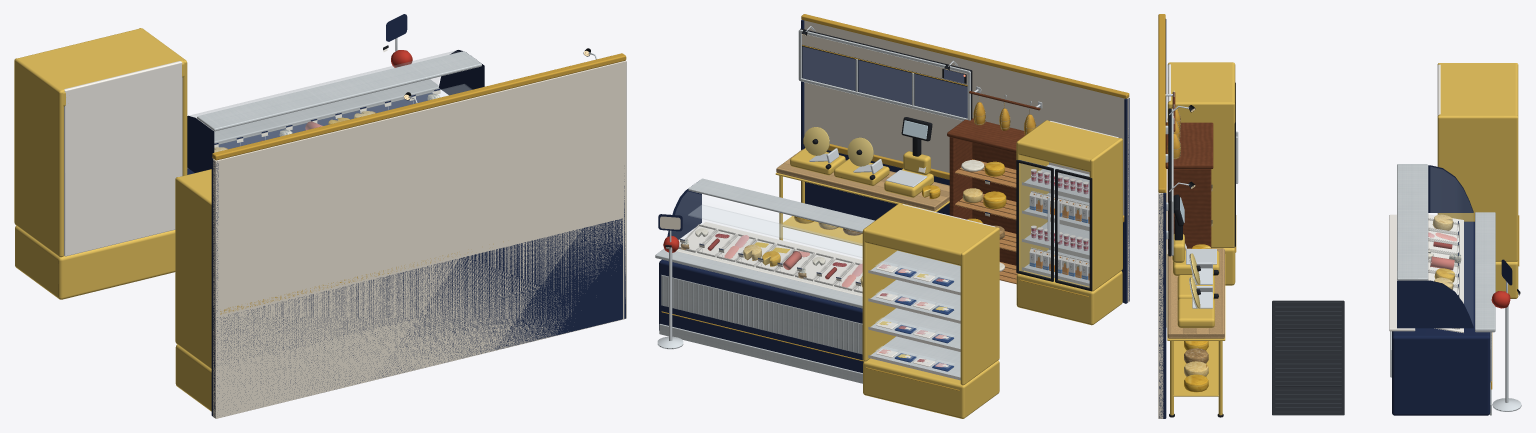
Rendered from sector-queijaria_T3.fbx.
The picture shows the model from 3 angles, left to right: view 1: azimuth 30°, elevation 25°; view 2: azimuth 150°, elevation 25°; view 3: azimuth 270°, elevation 25°; orthographic projection. The views are drawn at different scales.
Visible parts, largest first — view 1: Back Wall, Body; view 2: Body, Back Wall, Wall Dressing; view 3: Body, Back Wall, Wall Dressing.
Part boxes in pixels (box(x1,y1,x2,y2)): Back Wall: box(211, 53, 626, 418); Body: box(14, 14, 484, 411); Body: box(655, 117, 1122, 418); Back Wall: box(801, 14, 1129, 303); Wall Dressing: box(798, 26, 1042, 135); Body: box(1165, 62, 1521, 417); Back Wall: box(1158, 14, 1166, 418); Wall Dressing: box(1165, 91, 1195, 256).
Size of the model in its own units: 4 by 2.45 by 3.5.
